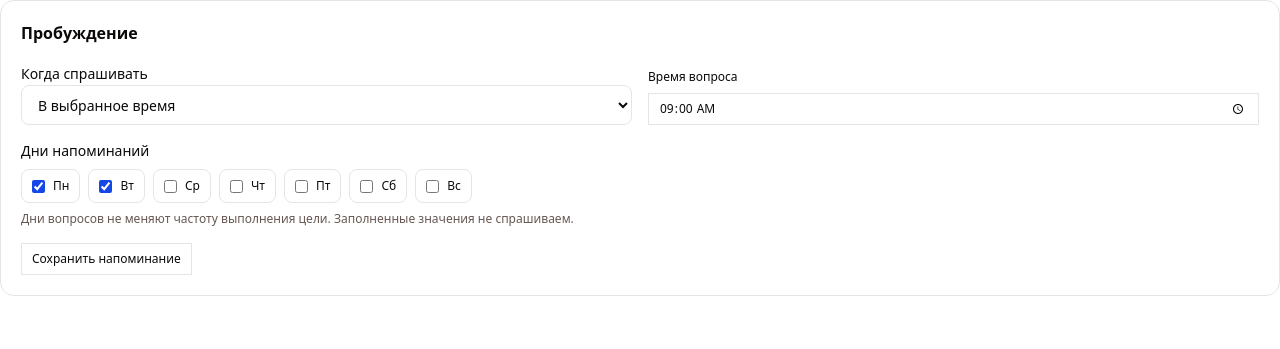
reminder settings › saves per-goal weekdays and prevents a schedule without any days
Click the checkbox labelled "Вт" at (106, 186), box [99, 180, 112, 192]
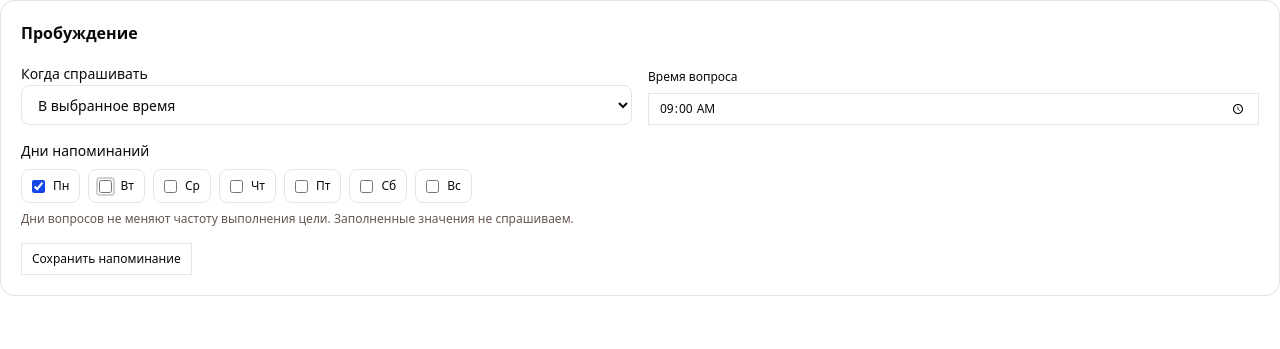
Click the button named "Сохранить напоминание" at (106, 259), box [21, 243, 192, 275]
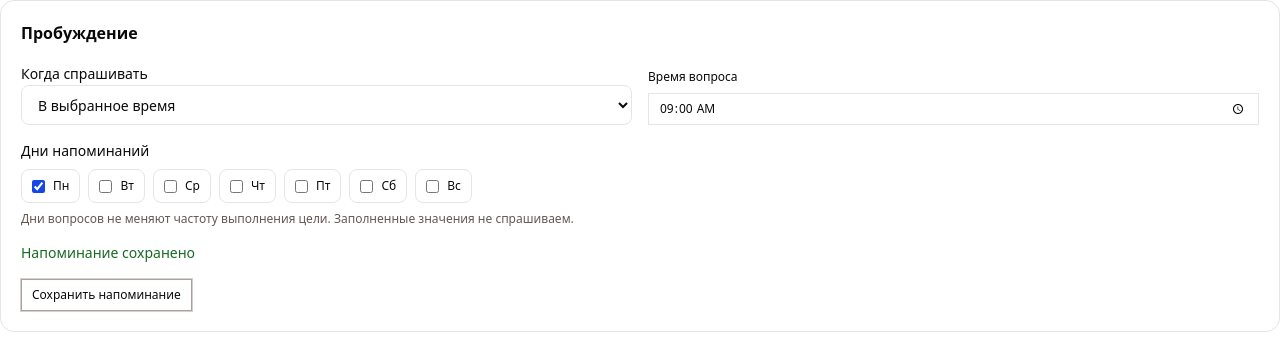
Click the checkbox labelled "Пн" at (38, 186), box [32, 180, 45, 192]
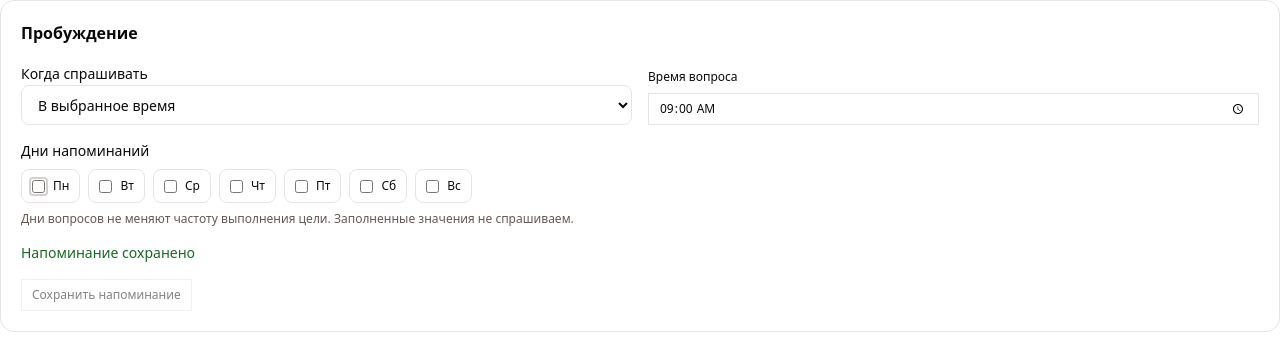
expect the button named "Сохранить напоминание" is disabled: met, box [21, 279, 192, 311]
